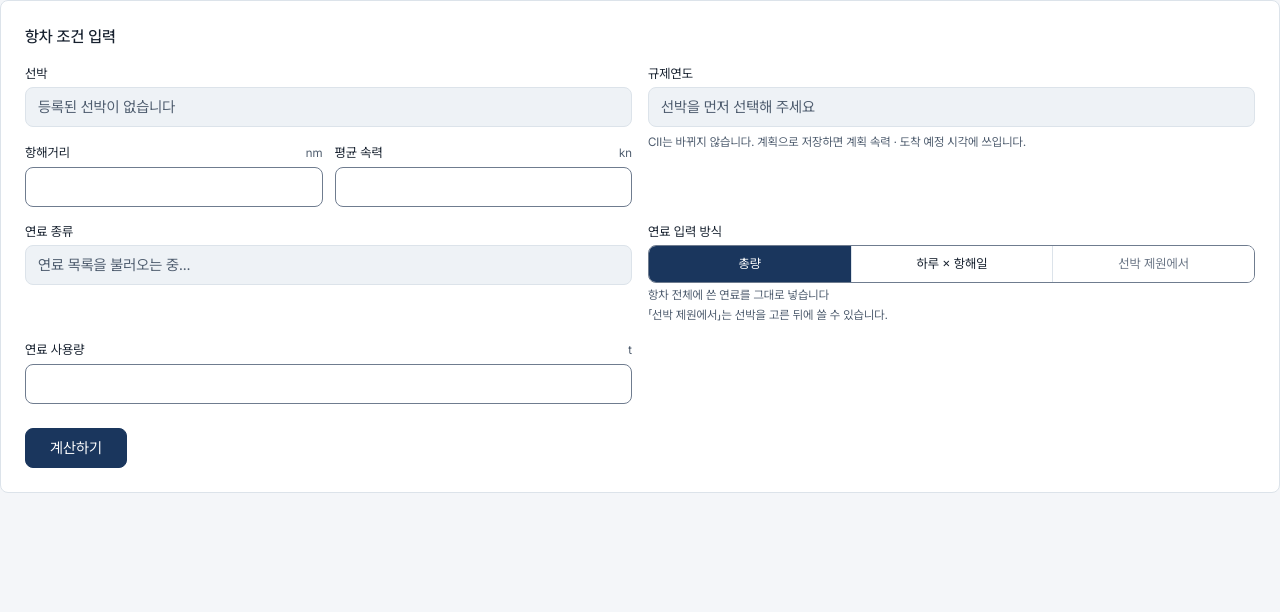
Test: 연도 칸이 「선박 미선택」을 「연도 없음」으로 말하지 않는다 (#1093 ⑶) › 선박 미선택으로 제출하면 선박 오류가 사라지지 않는다
Step 1. Click the button "계산하기" → (76, 448), box [25,428,127,468]
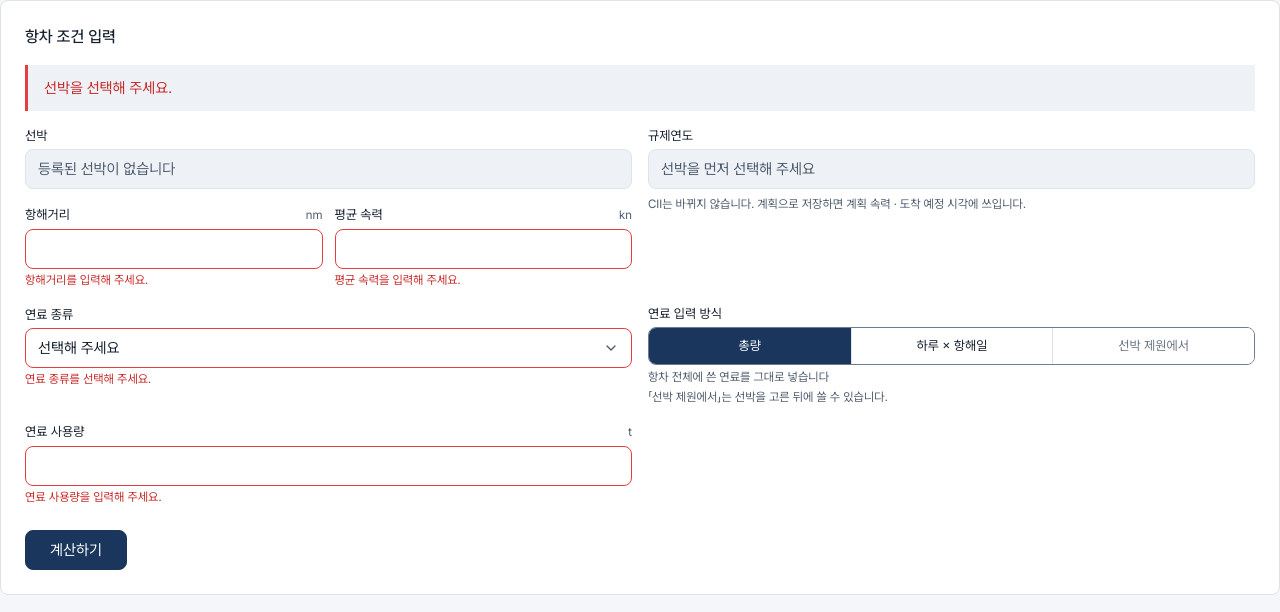
Expected: the text "선박을 선택해 주세요." is shown, [25,65,1255,111]
